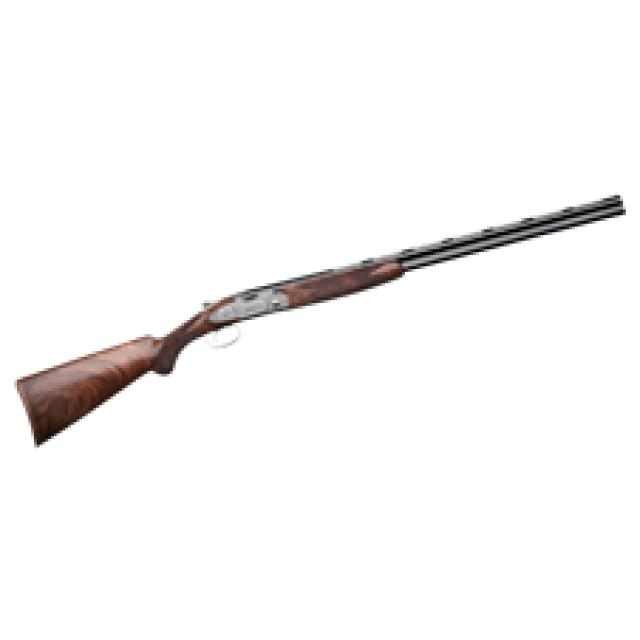rifle: (11, 187, 634, 461)
